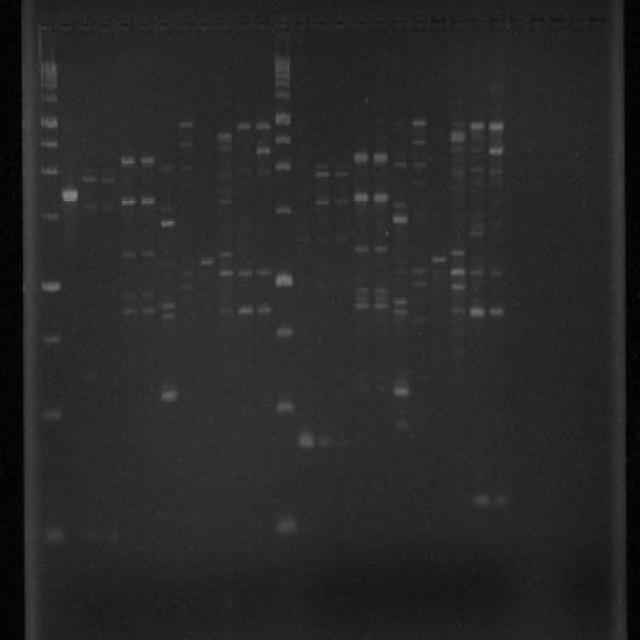B: (296, 432, 318, 450), (493, 492, 513, 508), (472, 492, 492, 508), (392, 384, 414, 398), (353, 150, 370, 167), (60, 188, 80, 202), (449, 128, 466, 144), (159, 388, 178, 402), (373, 150, 389, 166), (488, 144, 506, 158), (468, 304, 486, 318), (318, 436, 336, 450), (392, 419, 414, 430), (392, 295, 410, 308), (488, 305, 506, 318), (353, 191, 370, 204), (449, 265, 466, 278), (487, 120, 505, 132), (450, 304, 468, 316), (373, 191, 389, 204), (392, 212, 408, 225), (469, 120, 486, 132), (410, 116, 428, 127), (430, 253, 448, 264), (468, 267, 486, 278), (412, 158, 428, 170), (354, 300, 370, 312), (256, 304, 272, 316), (236, 306, 255, 316), (139, 306, 158, 316), (120, 156, 137, 167), (139, 196, 156, 207), (237, 120, 252, 132), (217, 130, 232, 142), (120, 306, 138, 316), (178, 139, 194, 150), (198, 256, 214, 267), (469, 144, 486, 154), (449, 248, 466, 258), (256, 120, 270, 132), (256, 144, 270, 156), (488, 167, 506, 176), (314, 197, 332, 206), (410, 267, 428, 276), (392, 308, 410, 317), (138, 154, 154, 164), (469, 228, 486, 237), (140, 250, 157, 259), (139, 291, 156, 300), (333, 233, 352, 241), (118, 292, 137, 300), (354, 286, 369, 296), (120, 197, 136, 206), (158, 205, 176, 213), (488, 270, 506, 278), (410, 280, 428, 288), (449, 120, 466, 128), (410, 138, 427, 146), (236, 166, 253, 174), (80, 175, 97, 183), (159, 218, 176, 226), (449, 282, 466, 290), (159, 302, 176, 310), (373, 302, 390, 310), (159, 312, 176, 320), (374, 244, 389, 253), (393, 160, 409, 168), (470, 165, 486, 173), (256, 166, 272, 174), (334, 170, 350, 178), (100, 175, 116, 183), (82, 202, 98, 210), (354, 245, 370, 253), (178, 272, 194, 280), (374, 294, 390, 302), (120, 250, 134, 259), (178, 120, 193, 128), (394, 200, 409, 208), (218, 250, 233, 258), (218, 269, 233, 277), (238, 270, 253, 278), (374, 286, 389, 294), (334, 198, 351, 205), (316, 162, 330, 170), (160, 164, 174, 172), (316, 170, 330, 178), (178, 164, 194, 170), (217, 198, 232, 204), (218, 146, 232, 152), (258, 270, 272, 276), (219, 308, 233, 314)
L: (31, 0, 611, 43)
M: (30, 47, 67, 555), (270, 44, 302, 550)
P: (36, 523, 64, 548), (34, 404, 64, 424), (274, 512, 298, 536), (36, 276, 62, 296), (38, 330, 62, 350), (274, 269, 294, 291), (36, 60, 58, 77), (274, 398, 294, 416), (37, 134, 59, 150), (274, 108, 292, 127), (38, 113, 58, 130), (37, 207, 59, 222), (274, 200, 292, 218), (274, 324, 294, 340), (274, 131, 292, 147), (38, 164, 58, 178), (273, 88, 292, 101), (273, 78, 292, 90), (38, 92, 58, 103), (274, 160, 292, 172), (37, 81, 59, 90), (273, 61, 292, 70), (274, 72, 292, 78)
Pc: (34, 10, 54, 35), (588, 8, 608, 32), (488, 9, 507, 34), (428, 10, 448, 33), (566, 8, 585, 32), (467, 10, 487, 32), (350, 12, 370, 34), (370, 12, 390, 34), (95, 14, 114, 36), (390, 11, 408, 34), (310, 13, 330, 33), (508, 10, 526, 32), (410, 10, 428, 32), (273, 13, 292, 33), (546, 11, 565, 31), (449, 10, 466, 32), (75, 15, 94, 34), (253, 13, 272, 32), (332, 13, 350, 33), (528, 10, 544, 32), (154, 16, 172, 35), (56, 14, 73, 34), (194, 15, 210, 36), (234, 13, 251, 32), (212, 16, 231, 33), (293, 13, 310, 32), (116, 16, 132, 35), (176, 14, 190, 34), (136, 16, 152, 33)
